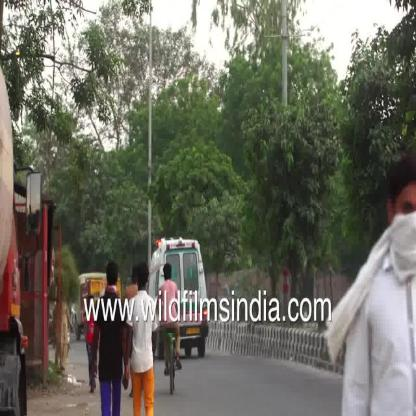priority: (172, 234, 221, 352)
